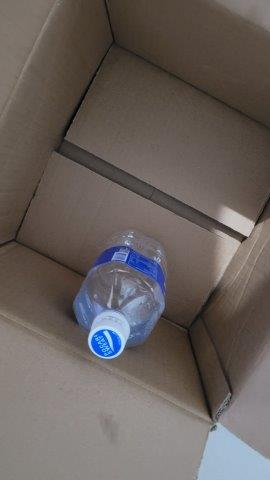botolplastik: (76, 229, 169, 360)
